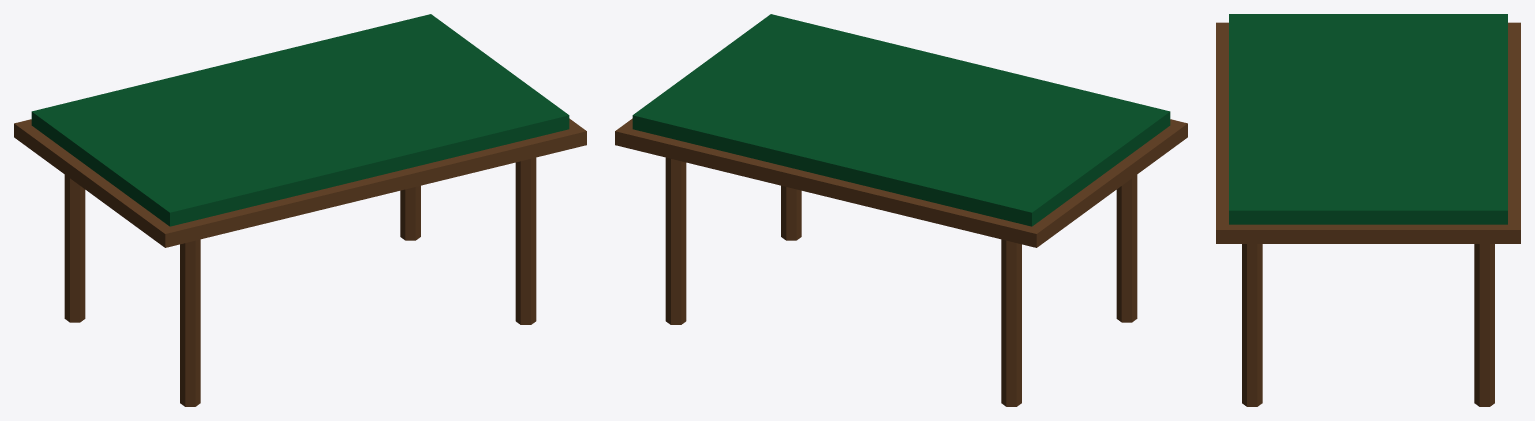
Rendered from Prop_OR_FeltTable_01.glb.
3 renders of one model, left to right at view 1: azimuth 30°, elevation 25°; view 2: azimuth 150°, elevation 25°; view 3: azimuth 270°, elevation 25°, orthographic.
Parts seen in each view (by area): view 1: Prop_OR_FeltTable_01; view 2: Prop_OR_FeltTable_01; view 3: Prop_OR_FeltTable_01.
Part boxes in pixels (<box>): Prop_OR_FeltTable_01: <box>14,14,586,406</box>; Prop_OR_FeltTable_01: <box>615,14,1187,406</box>; Prop_OR_FeltTable_01: <box>1216,14,1520,406</box>.
Size of the model in its own units: 1.9 by 0.89 by 1.18.
